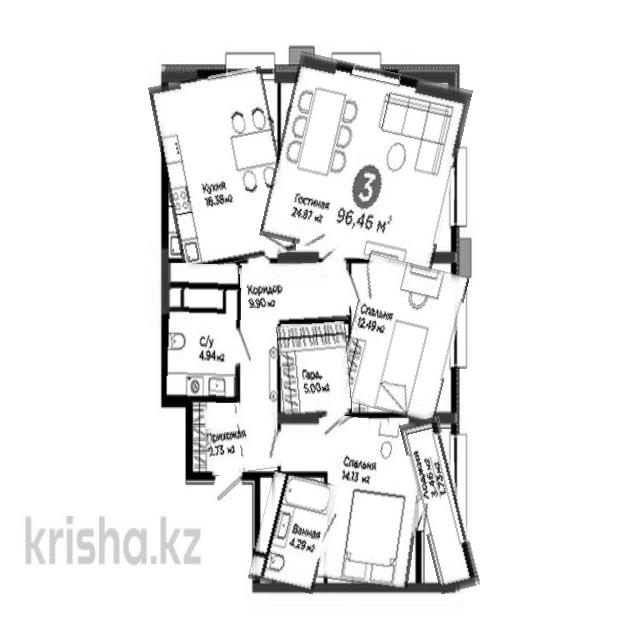balcony: (409, 417, 470, 593)
bathroom: (163, 264, 241, 403), (254, 473, 333, 591)
hallway: (240, 262, 351, 325), (205, 401, 279, 474)
kitchen: (157, 71, 288, 268)
living_room: (269, 59, 463, 266), (342, 258, 461, 418), (323, 418, 424, 588)
other: (278, 322, 351, 420)
